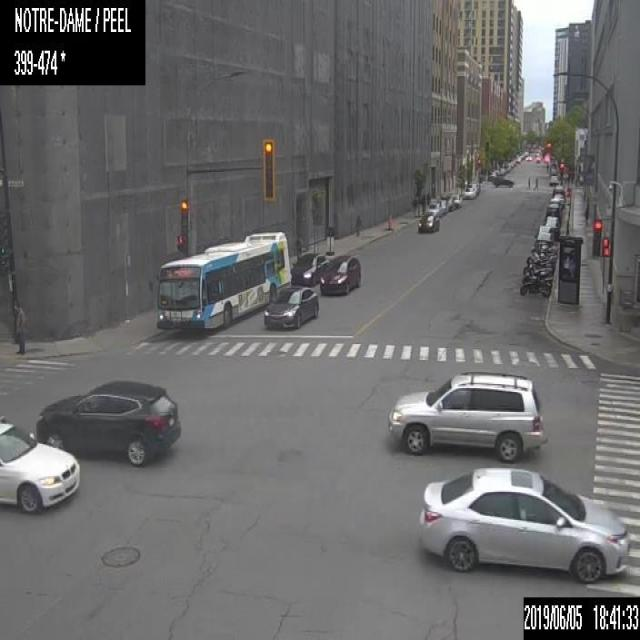bus: (157, 230, 290, 330)
construction: (325, 224, 334, 254), (386, 212, 393, 230)
pedestrian: (11, 295, 27, 353), (294, 234, 301, 258), (420, 191, 425, 213), (355, 213, 360, 234), (533, 174, 538, 191), (412, 196, 417, 213), (426, 190, 430, 207), (527, 174, 530, 190)
vehicle: (416, 465, 631, 579), (388, 368, 548, 461), (35, 376, 181, 465), (0, 415, 81, 513), (263, 286, 318, 330), (320, 254, 360, 295), (290, 251, 328, 286), (518, 275, 552, 295), (530, 239, 558, 255), (522, 264, 553, 278), (526, 252, 556, 266), (418, 214, 438, 233), (535, 224, 553, 242), (545, 216, 560, 233), (492, 175, 513, 187), (545, 203, 561, 217), (426, 201, 441, 215), (548, 197, 562, 209), (552, 184, 564, 197), (436, 198, 446, 213), (443, 197, 455, 209), (468, 183, 479, 195), (450, 193, 460, 206), (553, 194, 565, 204), (463, 187, 473, 198), (549, 175, 558, 186), (488, 170, 495, 180)
